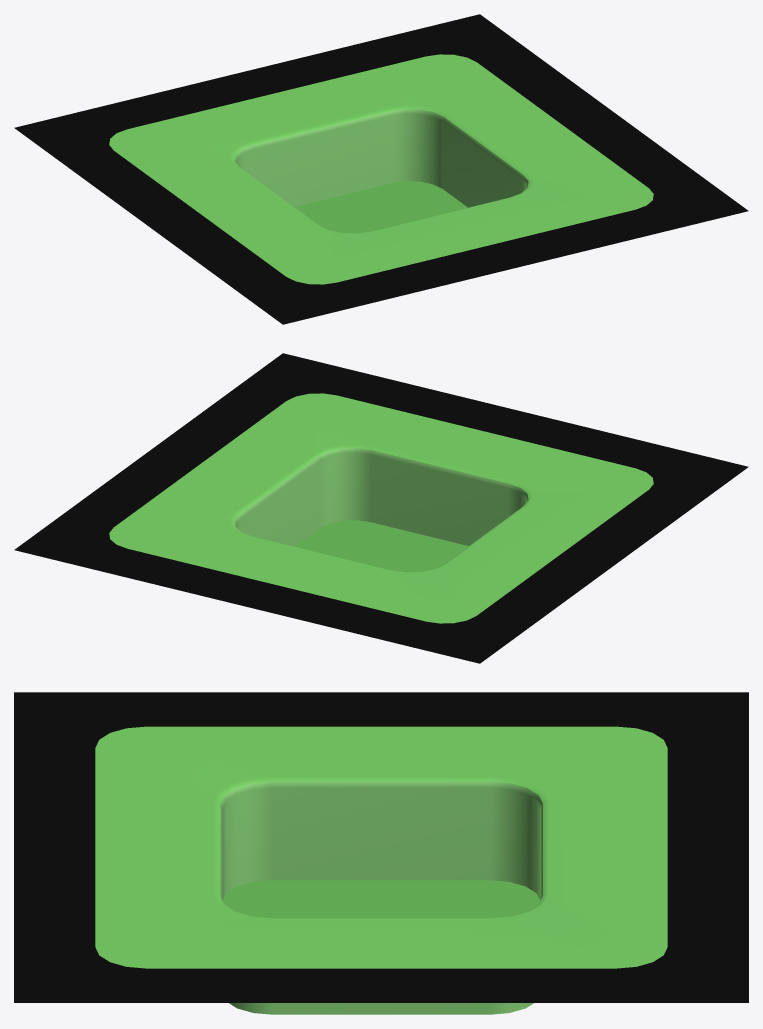
The model's file is Cell_Green_V3.fbx.
The picture shows the model from 3 angles, top to bottom: view 1: azimuth 30°, elevation 25°; view 2: azimuth 150°, elevation 25°; view 3: azimuth 270°, elevation 25°; orthographic projection. The views are drawn at different scales.
Parts seen in each view (by area): view 1: Tile_Green, Cell_Border; view 2: Tile_Green, Cell_Border; view 3: Tile_Green, Cell_Border.
Boxes of the visible parts, <box> form: Tile_Green: <box>109,54,653,284</box>; Cell_Border: <box>14,14,748,324</box>; Tile_Green: <box>109,393,653,623</box>; Cell_Border: <box>14,353,748,663</box>; Tile_Green: <box>95,726,667,1014</box>; Cell_Border: <box>14,692,748,1002</box>.
Size of the model in its own units: 112 by 16.8 by 112.
